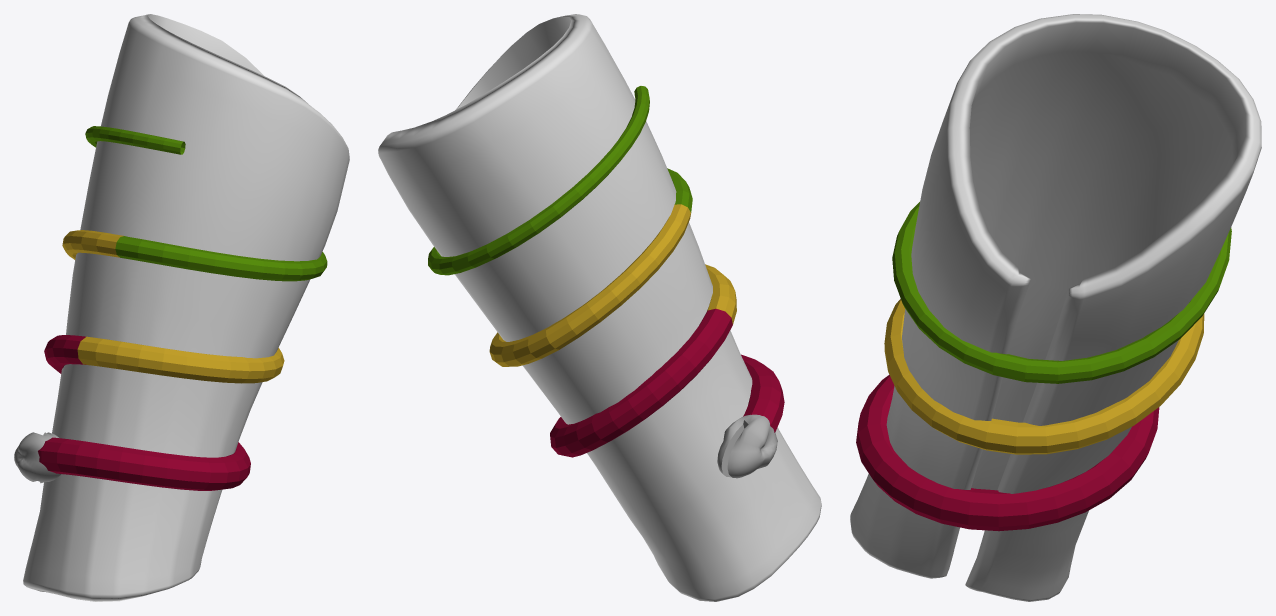
Rendered from Bracelet prototype.fbx.
3 renders of one model, left to right at view 1: azimuth 30°, elevation 25°; view 2: azimuth 150°, elevation 25°; view 3: azimuth 270°, elevation 25°, orthographic. The views are drawn at different scales.
Visible parts, largest first — view 1: Bracelet_Right, Critical, Medium, Healthy, pSphere1; view 2: Bracelet_Right, Critical, Medium, Healthy, pSphere1; view 3: Bracelet_Right, Critical, Medium, Healthy.
Part boxes in pixels (bbox=[...]): Bracelet_Right: bbox=[23, 14, 349, 601]; Critical: bbox=[38, 335, 250, 490]; Medium: bbox=[62, 230, 284, 383]; Healthy: bbox=[85, 126, 327, 281]; pSphere1: bbox=[14, 432, 61, 483]; Bracelet_Right: bbox=[378, 14, 821, 601]; Critical: bbox=[550, 308, 784, 457]; Medium: bbox=[489, 204, 736, 366]; Healthy: bbox=[428, 86, 692, 275]; pSphere1: bbox=[717, 414, 777, 478]; Bracelet_Right: bbox=[850, 14, 1261, 601]; Critical: bbox=[856, 374, 1159, 531]; Medium: bbox=[884, 298, 1204, 454]; Healthy: bbox=[892, 202, 1231, 383].
Size of the model in its own units: 14.49 by 21.59 by 12.65.
